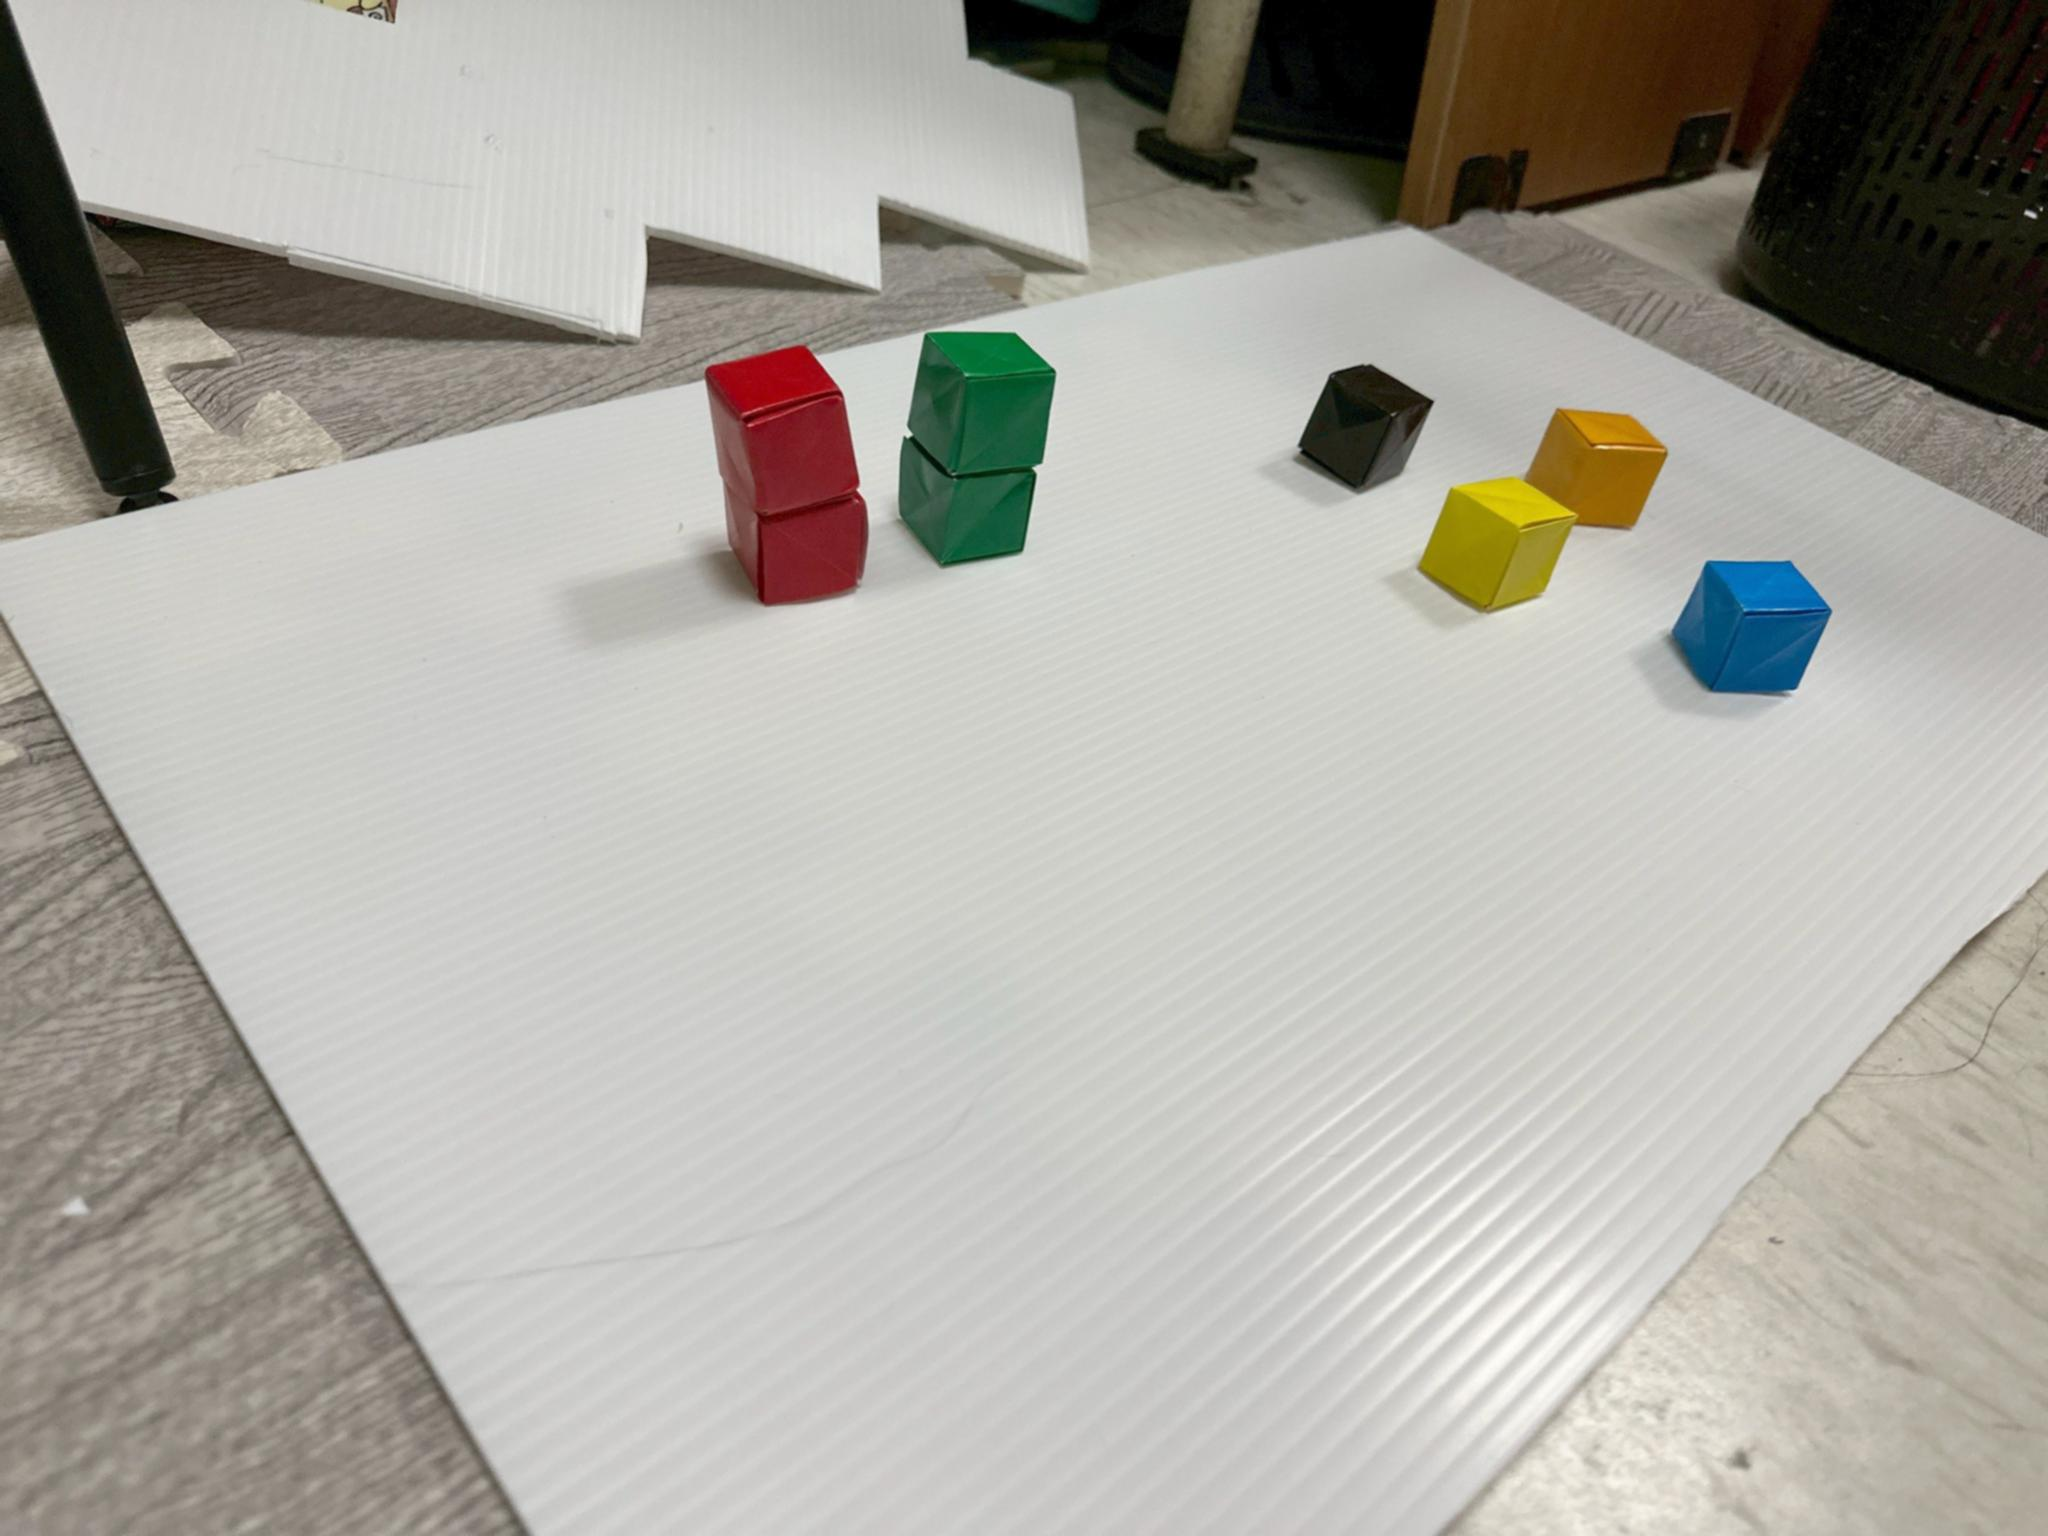base: (706, 347, 860, 515), (908, 332, 1055, 476), (1672, 561, 1830, 694), (1419, 478, 1576, 608), (900, 437, 1037, 565), (1526, 408, 1667, 529), (1300, 366, 1434, 489), (729, 489, 868, 605)
